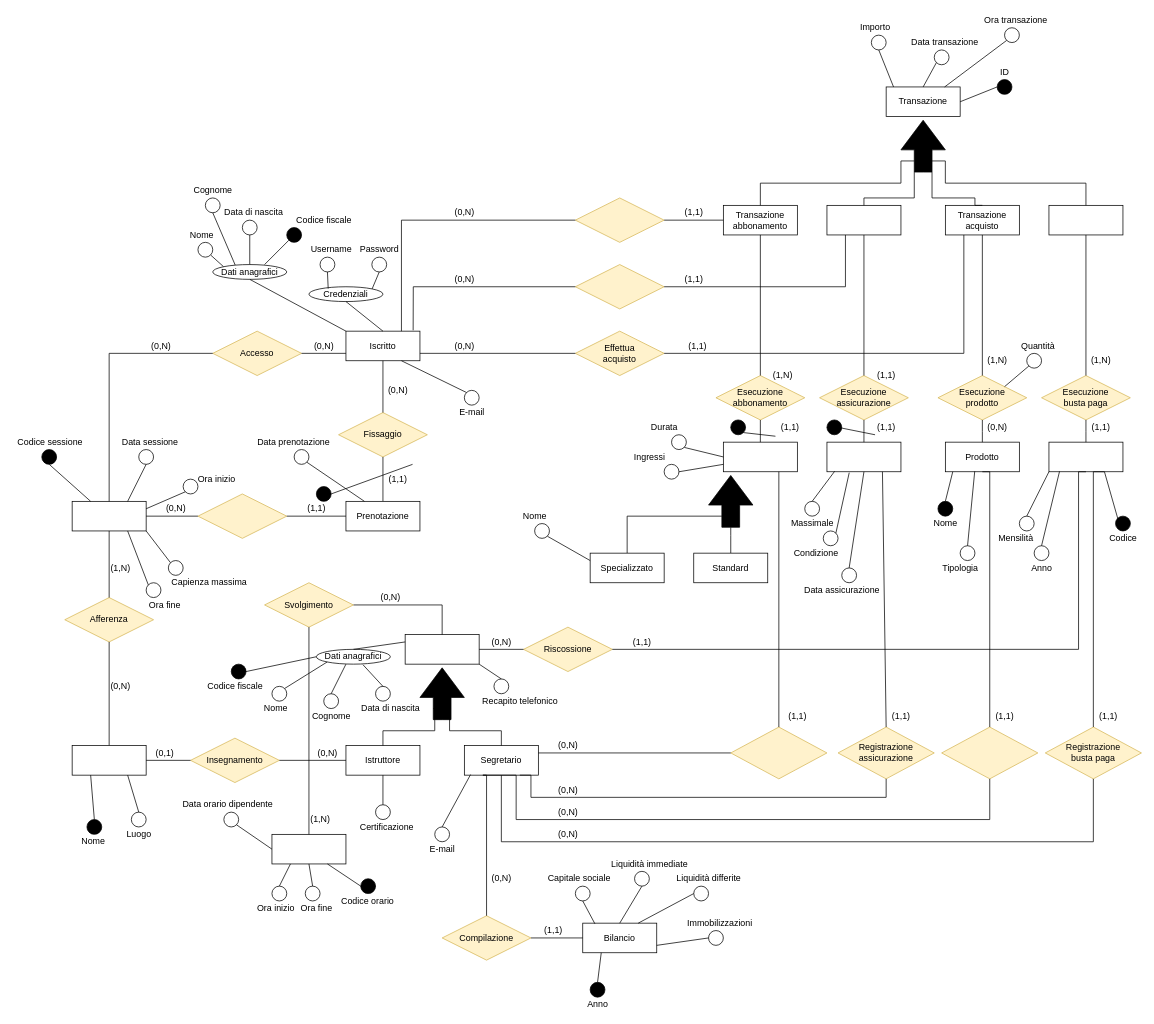
The diagram is 1154 pixels wide and 1024 high, and some of its shapes have lost their labels. Here are the shapes that lost their labels. From the top down, the box of each, then its label:
(575, 197, 664, 242): Effettua abbonamento
(826, 205, 901, 235): Transazione assicurazione
(1048, 205, 1123, 235): Transazione busta paga
(575, 264, 664, 309): Effettua assicurazione
(723, 441, 797, 472): Abbonamento
(826, 441, 901, 472): Assicurazione
(1048, 441, 1123, 472): Busta paga
(71, 501, 146, 531): Sessione
(197, 493, 287, 538): Corrispondenza
(404, 634, 479, 664): Dipendente
(71, 745, 146, 775): Corso
(730, 726, 827, 779): Registrazione abbonamento
(941, 726, 1038, 779): Registrazione prodotto
(271, 834, 346, 864): Orario dipendente
